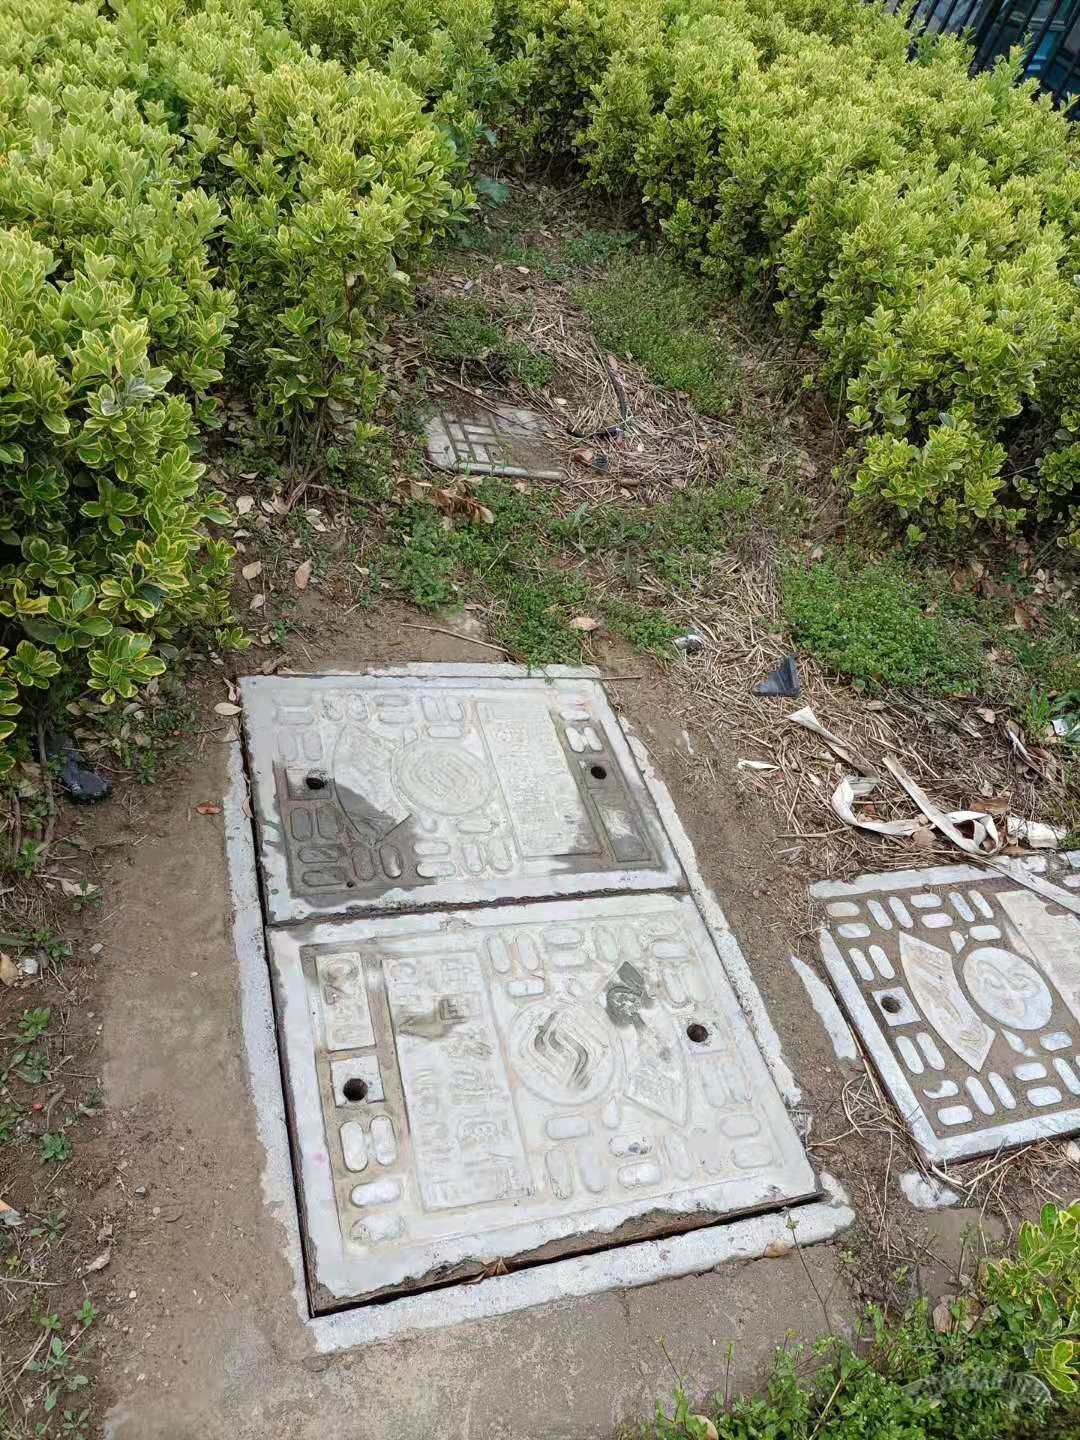good: (216, 663, 852, 1354), (781, 842, 1080, 1205)
